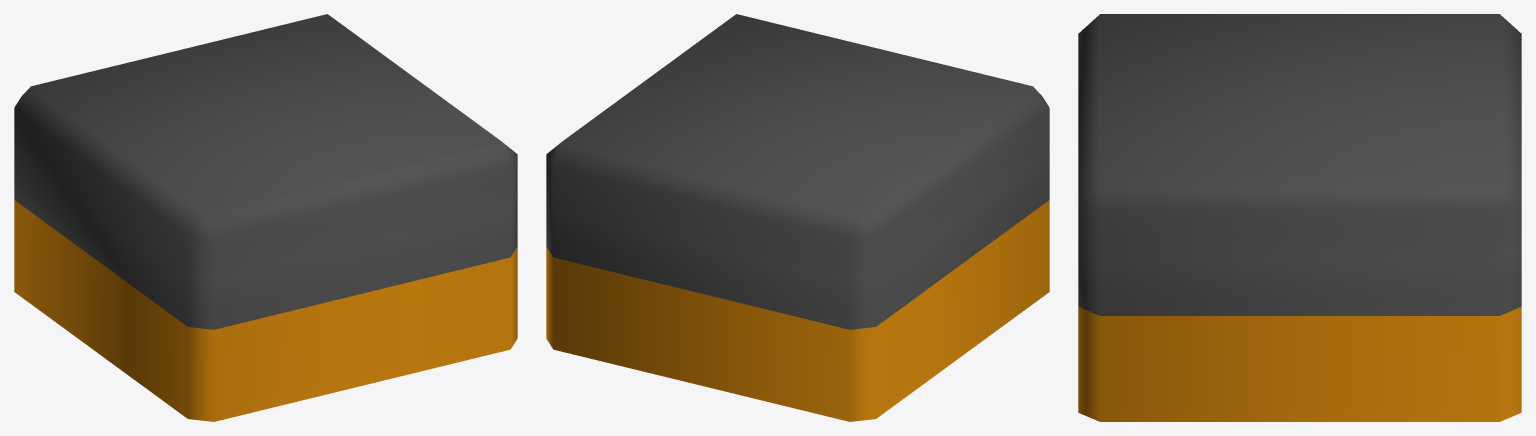
File: RoofAdd_2_C_6.fbx
3 renders of one model, left to right at view 1: azimuth 30°, elevation 25°; view 2: azimuth 150°, elevation 25°; view 3: azimuth 270°, elevation 25°, orthographic. The views are drawn at different scales.
Parts seen in each view (by area): view 1: RoofAdd_2_C_6; view 2: RoofAdd_2_C_6; view 3: RoofAdd_2_C_6.
Part boxes in pixels (box(x1,y1,x2,y2)): RoofAdd_2_C_6: box(14, 14, 517, 421); RoofAdd_2_C_6: box(546, 14, 1049, 421); RoofAdd_2_C_6: box(1078, 14, 1521, 421).
Bounding box in the file's own units: 127 × 74.17 × 128.
